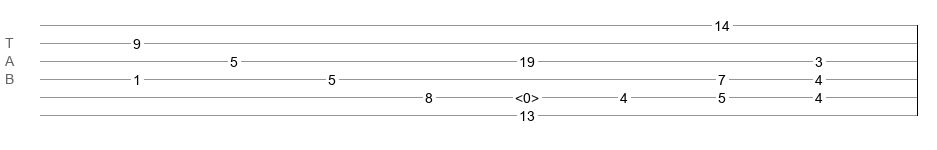1: (133, 72, 141, 82)
13: (519, 108, 535, 118)
14: (714, 18, 730, 28)
19: (519, 54, 535, 64)
3: (815, 54, 823, 64)
4: (620, 90, 628, 100), (815, 90, 823, 100), (815, 72, 823, 82)
5: (230, 54, 238, 64), (328, 72, 336, 82), (718, 90, 726, 100)
7: (718, 72, 726, 82)
8: (425, 90, 433, 100)
9: (133, 36, 141, 46)
harmonic: (515, 90, 539, 100)
